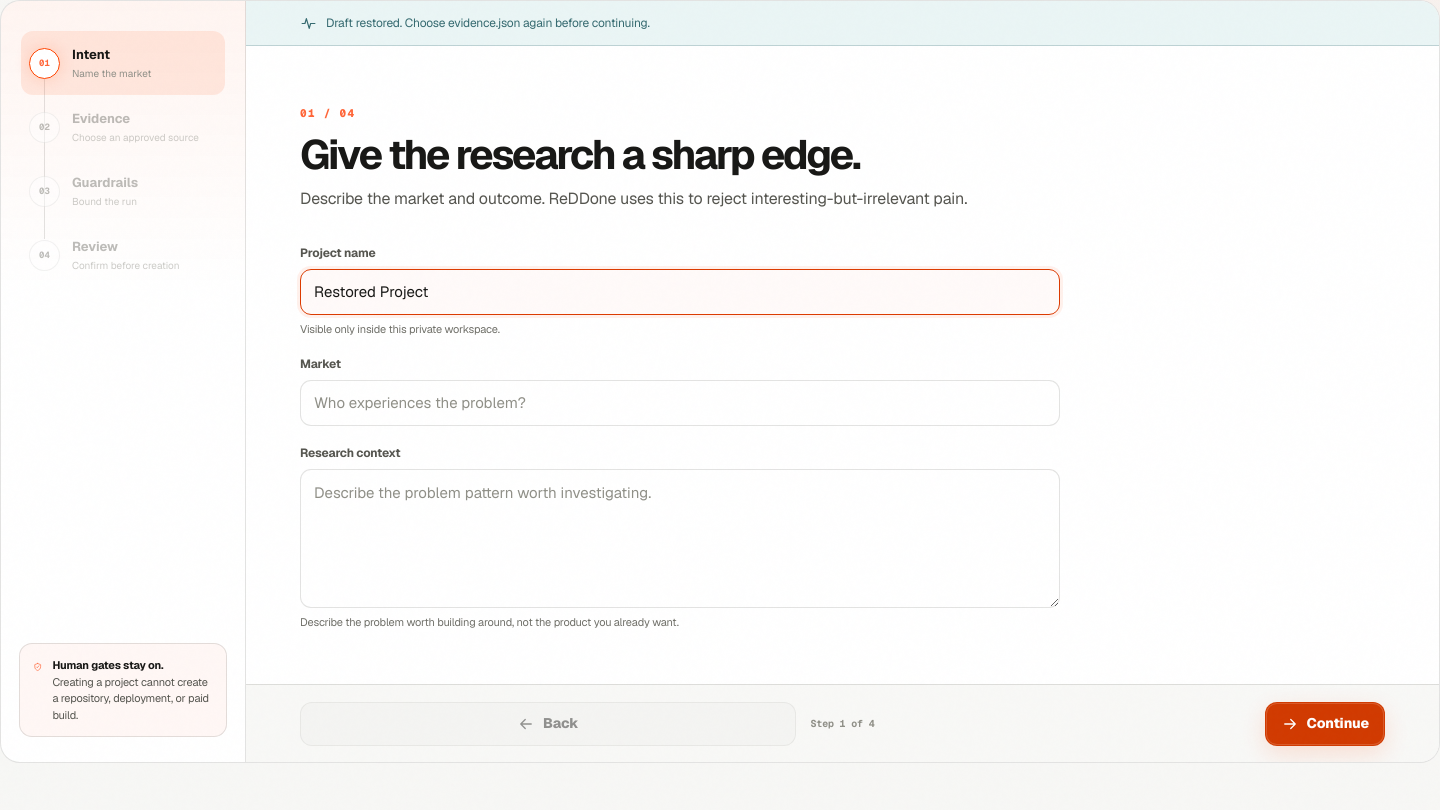
Test: project wizard › restores session drafts and validates fields inline before advancing
This screenshot has width=1440, height=810.
Expected: the field showing "Restored Project" is shown, [300,269,1060,315]
Expected: the text "Draft restored" is shown, [326,15,650,31]
Click the button "Continue".
click(1325, 724)  # box [1265,702,1385,746]
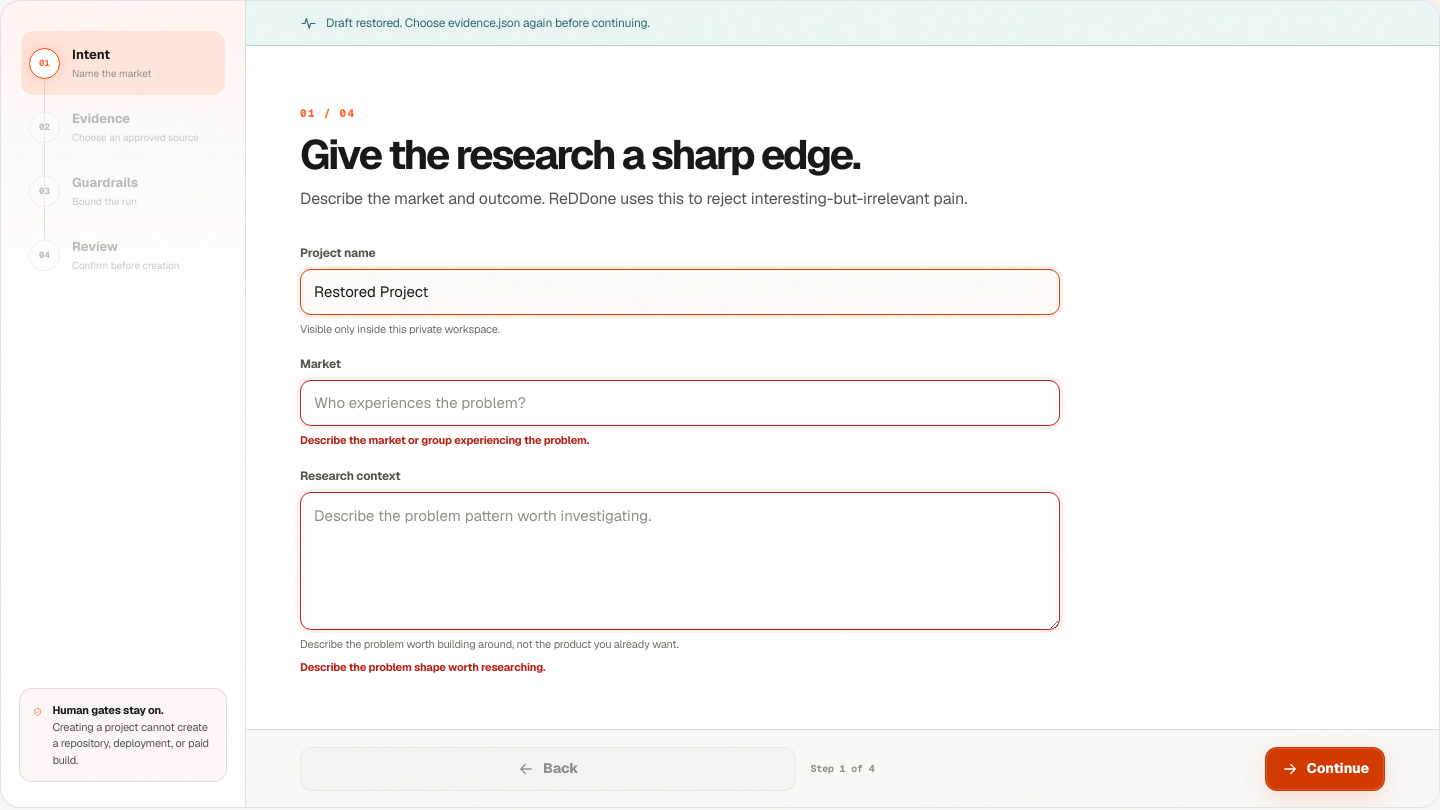
Expected: the text "01 / 04" is shown, [300,106,356,120]
Now the text "Describe the market or group experiencing the problem." is shown, box [300,434,589,448]
Now the text "Describe the problem shape worth researching." is shown, box [300,660,545,674]
